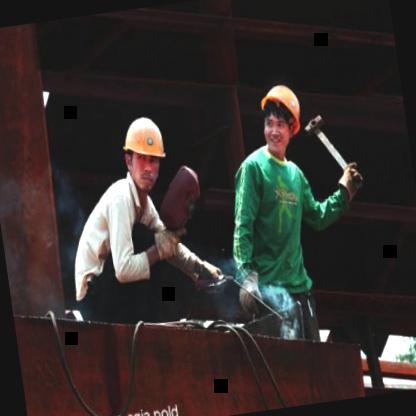helmet: (112, 108, 173, 198), (248, 72, 310, 160)
